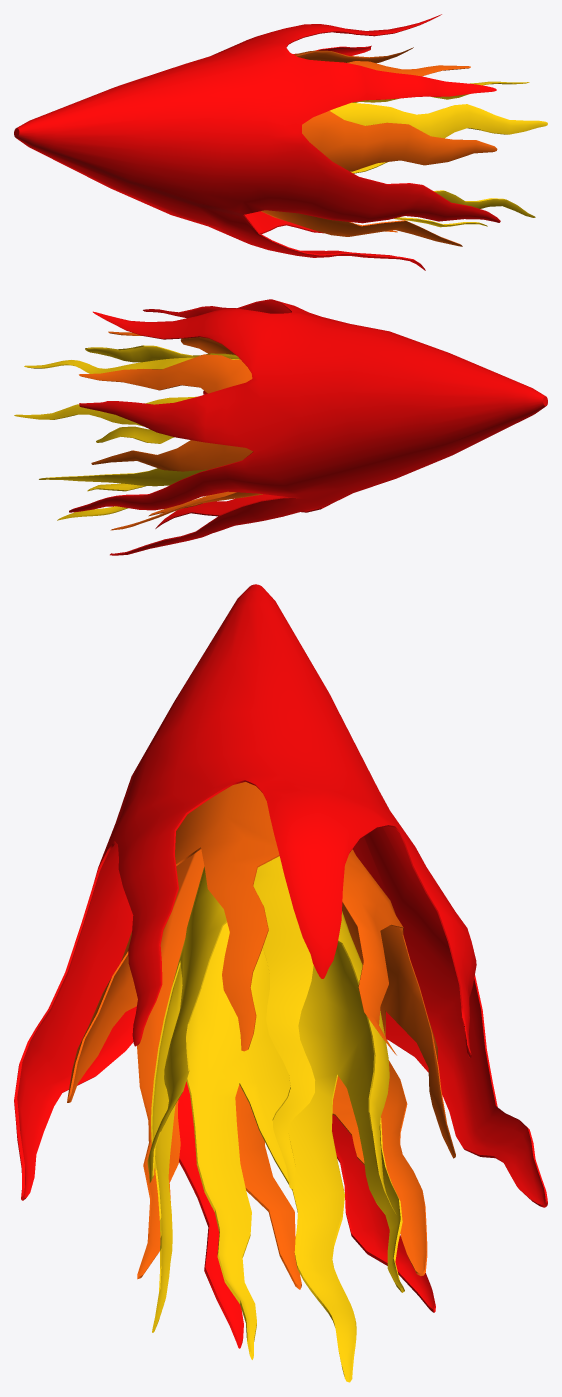
Rendered from fire.obj.
3 views of the same model, one above another, from view 1: azimuth 30°, elevation 25°; view 2: azimuth 150°, elevation 25°; view 3: azimuth 270°, elevation 25° (orthographic). The views are drawn at different scales.
Visible parts, largest first — view 1: node_id417; view 2: node_id417; view 3: node_id417.
Part boxes in pixels (<box>): node_id417: <box>14,14,547,270</box>; node_id417: <box>14,299,547,555</box>; node_id417: <box>14,584,547,1382</box>.
Size of the model in its own units: 1.02 by 0.4783 by 0.512.
